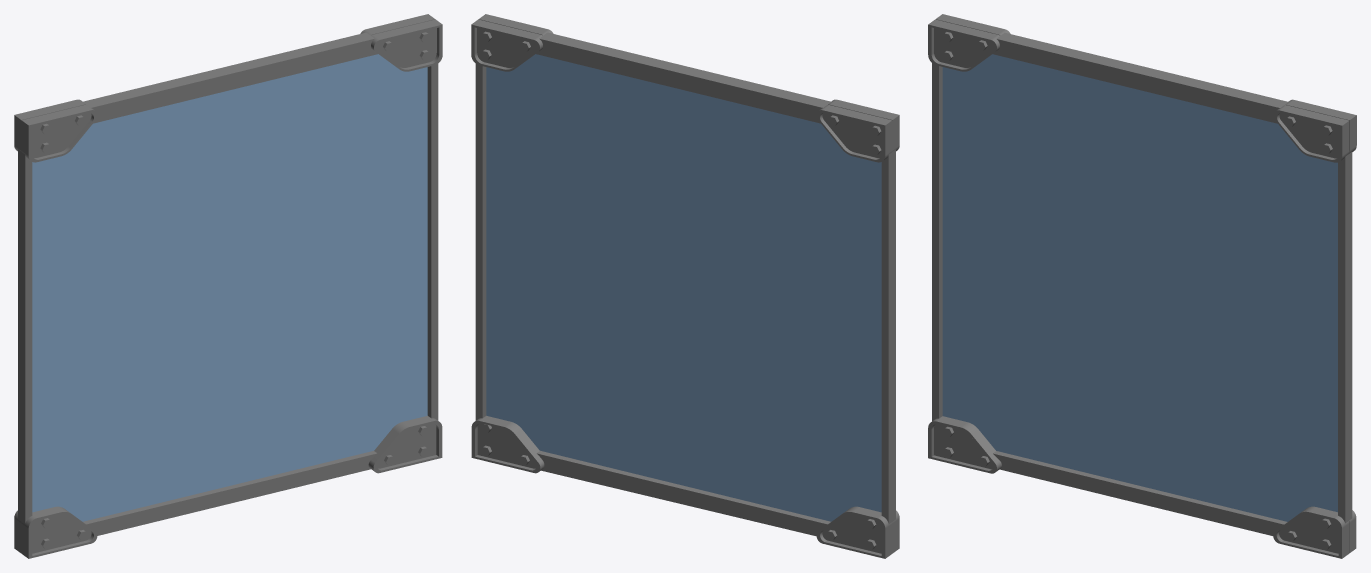
File: SM_PanelGlass.FBX
The picture shows the model from 3 angles, left to right: view 1: azimuth 30°, elevation 25°; view 2: azimuth 150°, elevation 25°; view 3: azimuth 330°, elevation 25°; orthographic projection.
Parts seen in each view (by area): view 1: SM_PanelGlass_LOD0; view 2: SM_PanelGlass_LOD0; view 3: SM_PanelGlass_LOD0.
Part boxes in pixels (left/top/right/bottom): SM_PanelGlass_LOD0: left=14, top=14, right=442, bottom=558; SM_PanelGlass_LOD0: left=471, top=14, right=899, bottom=558; SM_PanelGlass_LOD0: left=928, top=14, right=1356, bottom=558.
Size of what is drawn, in the model's own units: 225 by 225 by 13.57.
